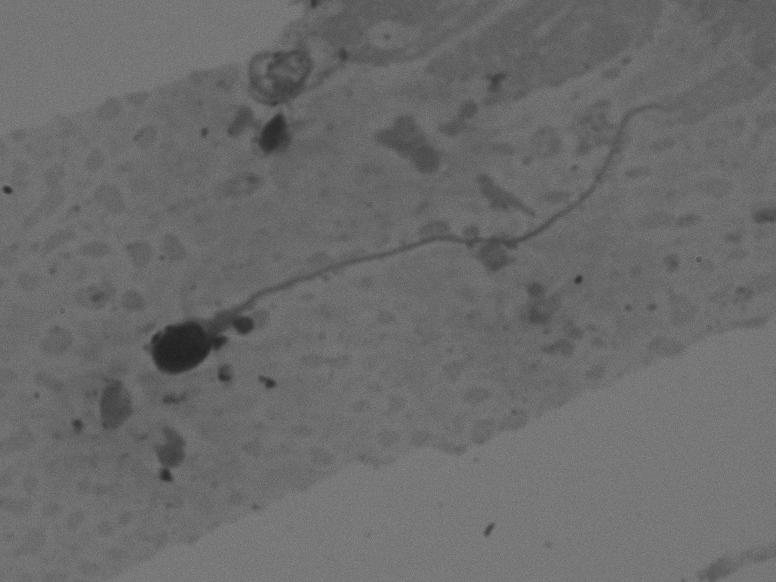Abnormal: (131, 83, 672, 399)
